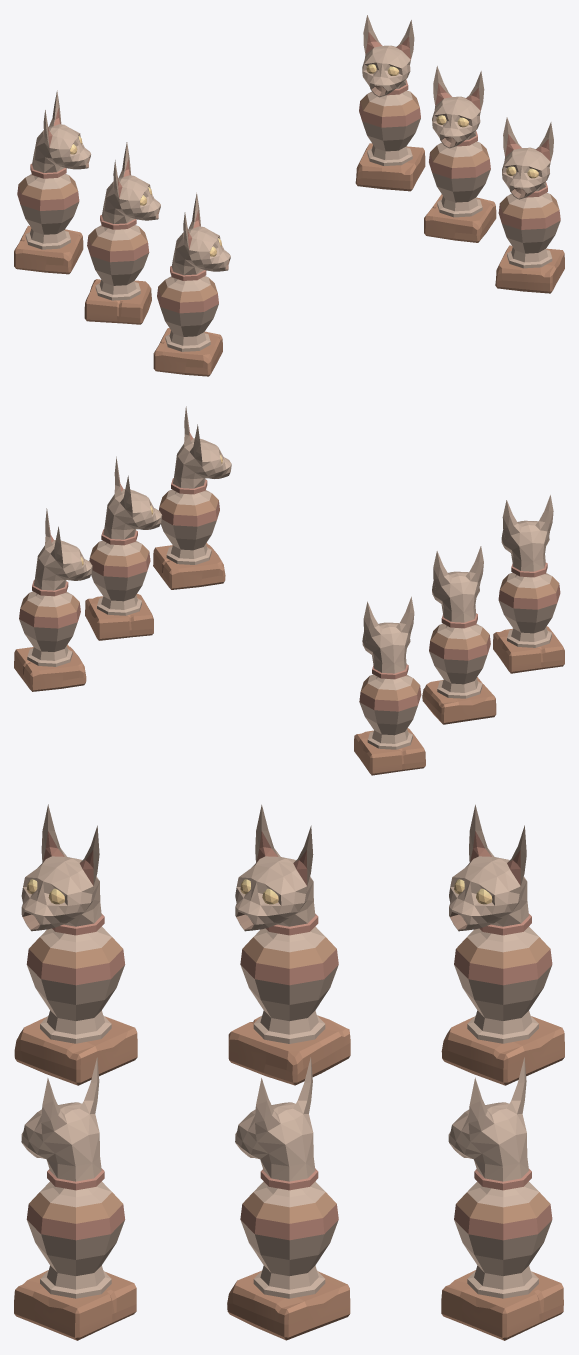
File: buriedTempleGasTrap.fbx
The picture shows the model from 3 angles, top to bottom: view 1: azimuth 30°, elevation 25°; view 2: azimuth 150°, elevation 25°; view 3: azimuth 270°, elevation 25°; orthographic projection. The views are drawn at different scales.
Visible parts, largest first — view 1: buriedTempleGasTrap; view 2: buriedTempleGasTrap; view 3: buriedTempleGasTrap.
Boxes of the visible parts, box(x1,y1,x2,y2) form: buriedTempleGasTrap: box(14, 15, 564, 376); buriedTempleGasTrap: box(14, 406, 564, 775); buriedTempleGasTrap: box(14, 804, 564, 1340).
Size of the model in its own units: 9.06 by 3.41 by 6.88.
